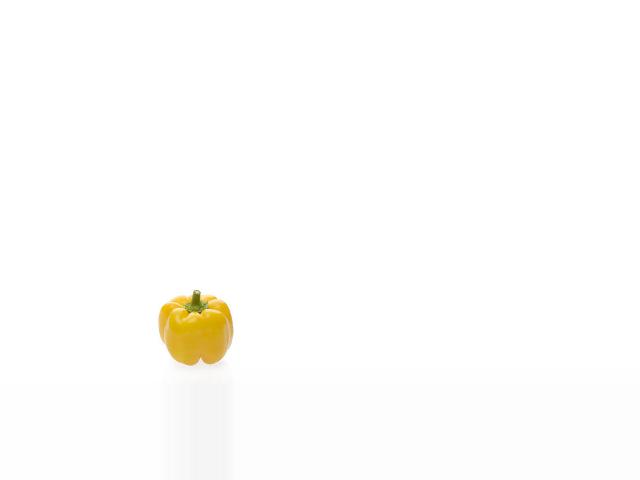bell_pepper: (153, 287, 232, 367)
